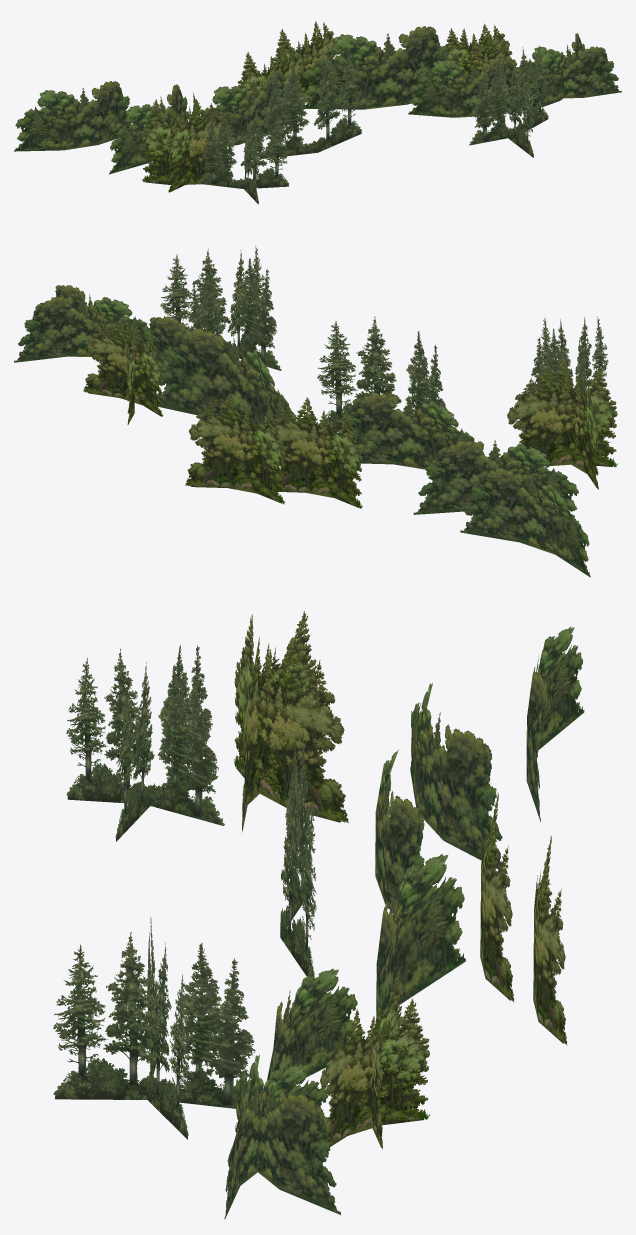
Rendered from EnmuTrees.fbx.
3 renders of one model, top to bottom at view 1: azimuth 30°, elevation 25°; view 2: azimuth 150°, elevation 25°; view 3: azimuth 270°, elevation 25°, orthographic. The views are drawn at different scales.
Visible parts, largest first — view 1: 0001_SM_a_006_Trees_03a, 0000_SM_a_006_Trees_03a, 0002_SM_a_006_Trees_03a; view 2: 0001_SM_a_006_Trees_03a, 0002_SM_a_006_Trees_03a, 0000_SM_a_006_Trees_03a; view 3: 0001_SM_a_006_Trees_03a, 0000_SM_a_006_Trees_03a, 0002_SM_a_006_Trees_03a.
Boxes of the visible parts, left/top/right/bottom form: 0001_SM_a_006_Trees_03a: left=14, top=26, right=621, bottom=174; 0000_SM_a_006_Trees_03a: left=198, top=45, right=548, bottom=204; 0002_SM_a_006_Trees_03a: left=141, top=21, right=516, bottom=192; 0001_SM_a_006_Trees_03a: left=14, top=285, right=590, bottom=577; 0002_SM_a_006_Trees_03a: left=83, top=319, right=617, bottom=508; 0000_SM_a_006_Trees_03a: left=160, top=245, right=608, bottom=431; 0001_SM_a_006_Trees_03a: left=224, top=626, right=584, bottom=1219; 0000_SM_a_006_Trees_03a: left=53, top=644, right=316, bottom=1139; 0002_SM_a_006_Trees_03a: left=233, top=611, right=567, bottom=1149.
Size of the model in its own units: 163 by 32.13 by 72.52.
